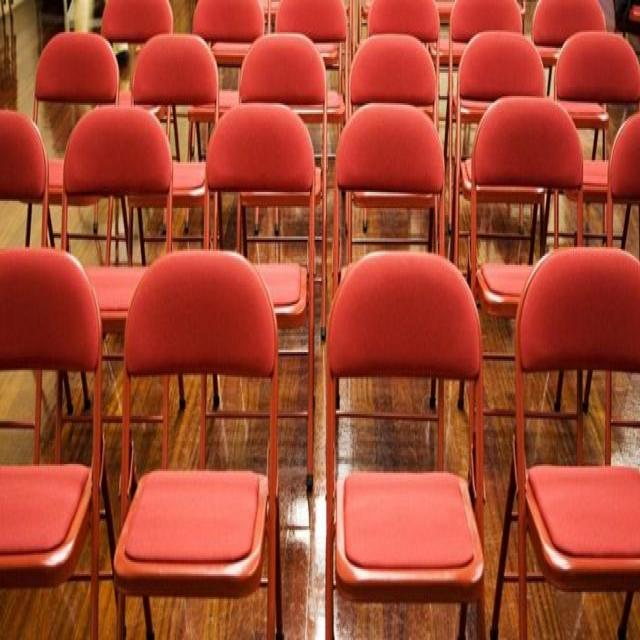chair: (325, 274, 493, 640), (125, 278, 270, 604), (517, 268, 638, 628), (1, 252, 106, 617), (198, 123, 323, 405), (331, 124, 467, 364), (65, 105, 190, 361), (474, 106, 588, 332), (459, 20, 572, 231), (123, 0, 268, 164), (238, 30, 341, 256), (353, 36, 457, 240), (544, 23, 640, 222)
